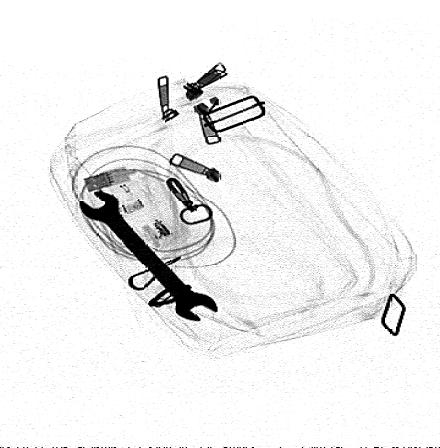Wrench: (78, 191, 219, 323)
